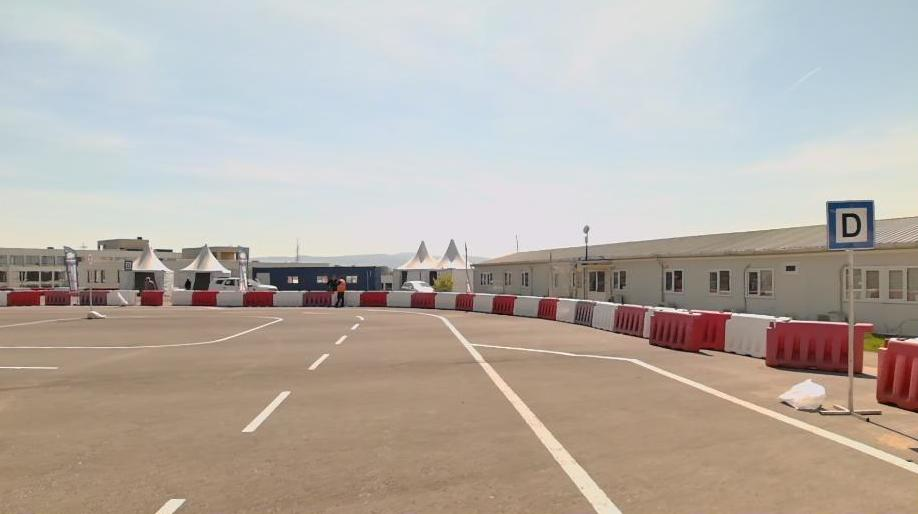nesne: (3, 305, 620, 513), (151, 313, 619, 514), (461, 342, 918, 513), (1, 319, 364, 513), (2, 318, 281, 349), (766, 320, 873, 372), (877, 338, 917, 412), (725, 315, 787, 357), (825, 198, 874, 249), (649, 309, 700, 351), (240, 390, 290, 432), (690, 309, 732, 350), (778, 378, 827, 411), (614, 304, 647, 336), (592, 301, 616, 330), (511, 296, 541, 317), (5, 289, 42, 306), (275, 289, 307, 307), (304, 290, 335, 308), (573, 300, 594, 326), (44, 288, 72, 307), (215, 289, 246, 306), (491, 294, 515, 315), (110, 288, 138, 306), (246, 289, 275, 306), (536, 297, 557, 320), (556, 298, 576, 322), (80, 290, 108, 307), (472, 291, 493, 313), (359, 290, 386, 307), (154, 498, 184, 513), (411, 290, 435, 308), (170, 289, 193, 307), (139, 289, 163, 306), (387, 290, 411, 307), (194, 290, 219, 306), (307, 353, 329, 371), (333, 276, 345, 307), (436, 292, 456, 309), (456, 292, 472, 312), (344, 290, 359, 305), (0, 366, 57, 369), (335, 335, 348, 344)
